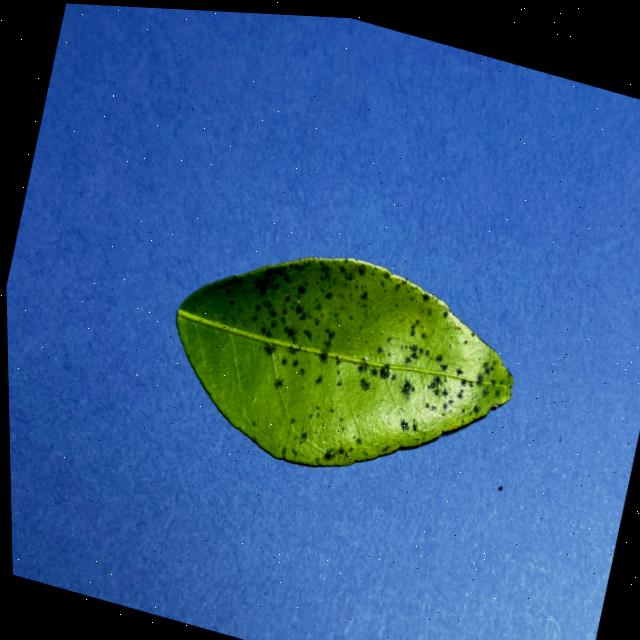sooty_mold: (179, 256, 513, 465)
